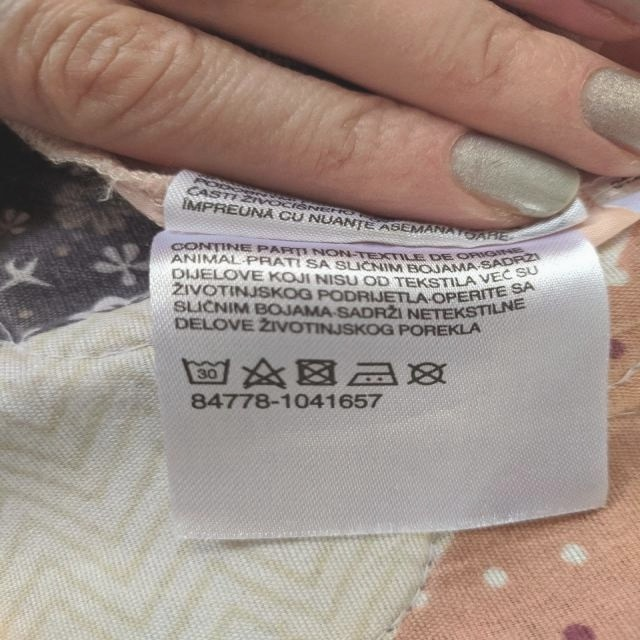30C: (180, 352, 236, 388)
DN_bleach: (242, 354, 286, 392)
DN_dry_clean: (405, 360, 450, 388)
DN_tumble_dry: (293, 356, 340, 391)
iron_medium: (348, 357, 402, 388)
